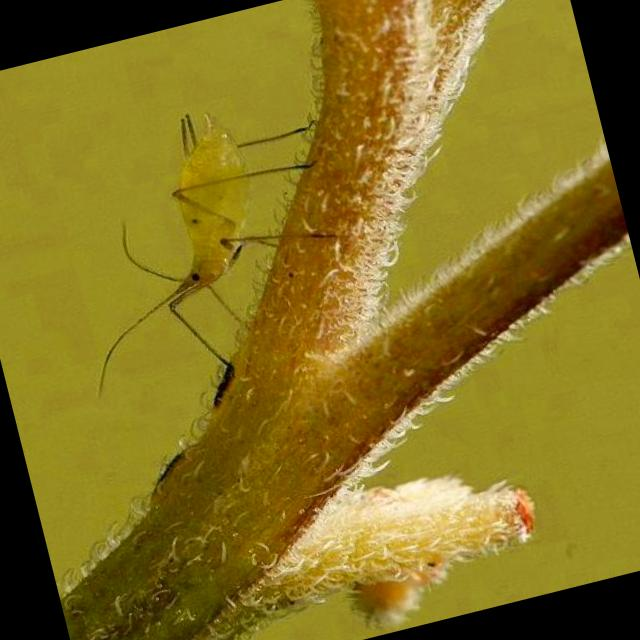aphid: (138, 85, 328, 319)
